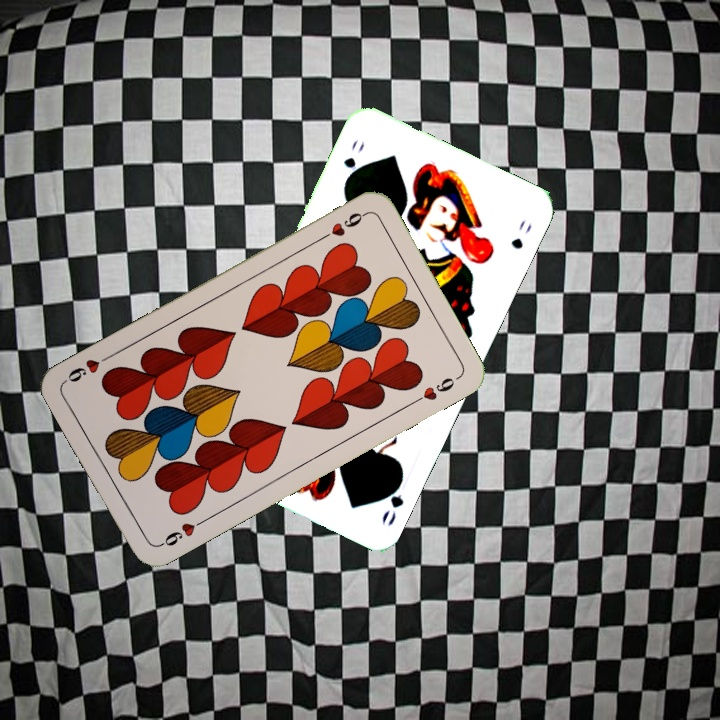GO: (377, 471, 406, 529), (339, 135, 368, 187)
H9: (315, 208, 370, 243), (154, 515, 209, 550)
